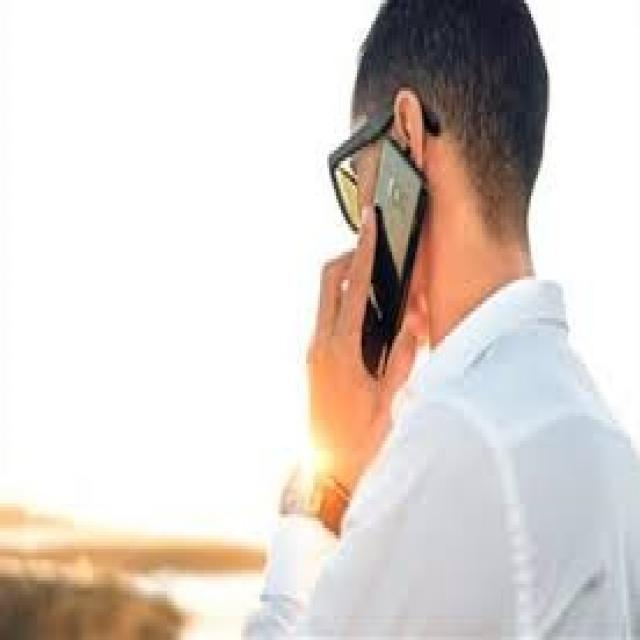phone: (283, 84, 438, 458)
